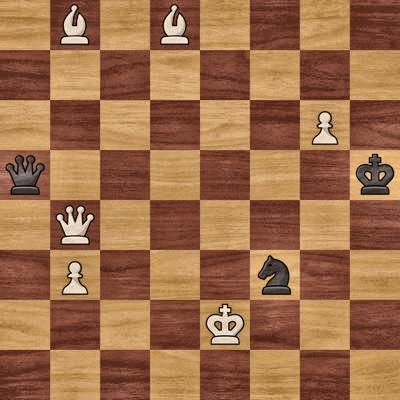black-king: (350, 150, 400, 200)
black-knight: (250, 250, 300, 300)
black-queen: (0, 150, 50, 200)
white-bishop: (50, 0, 100, 50), (150, 0, 200, 50)
white-king: (200, 300, 250, 350)
white-pawn: (300, 100, 350, 150), (50, 250, 100, 300)
white-queen: (50, 200, 100, 250)
